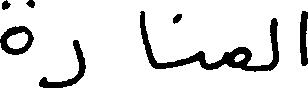X: (41, 35, 82, 87), (0, 0, 31, 59), (142, 6, 154, 72), (230, 42, 250, 75), (302, 0, 307, 87), (272, 0, 276, 87), (198, 46, 204, 73)
